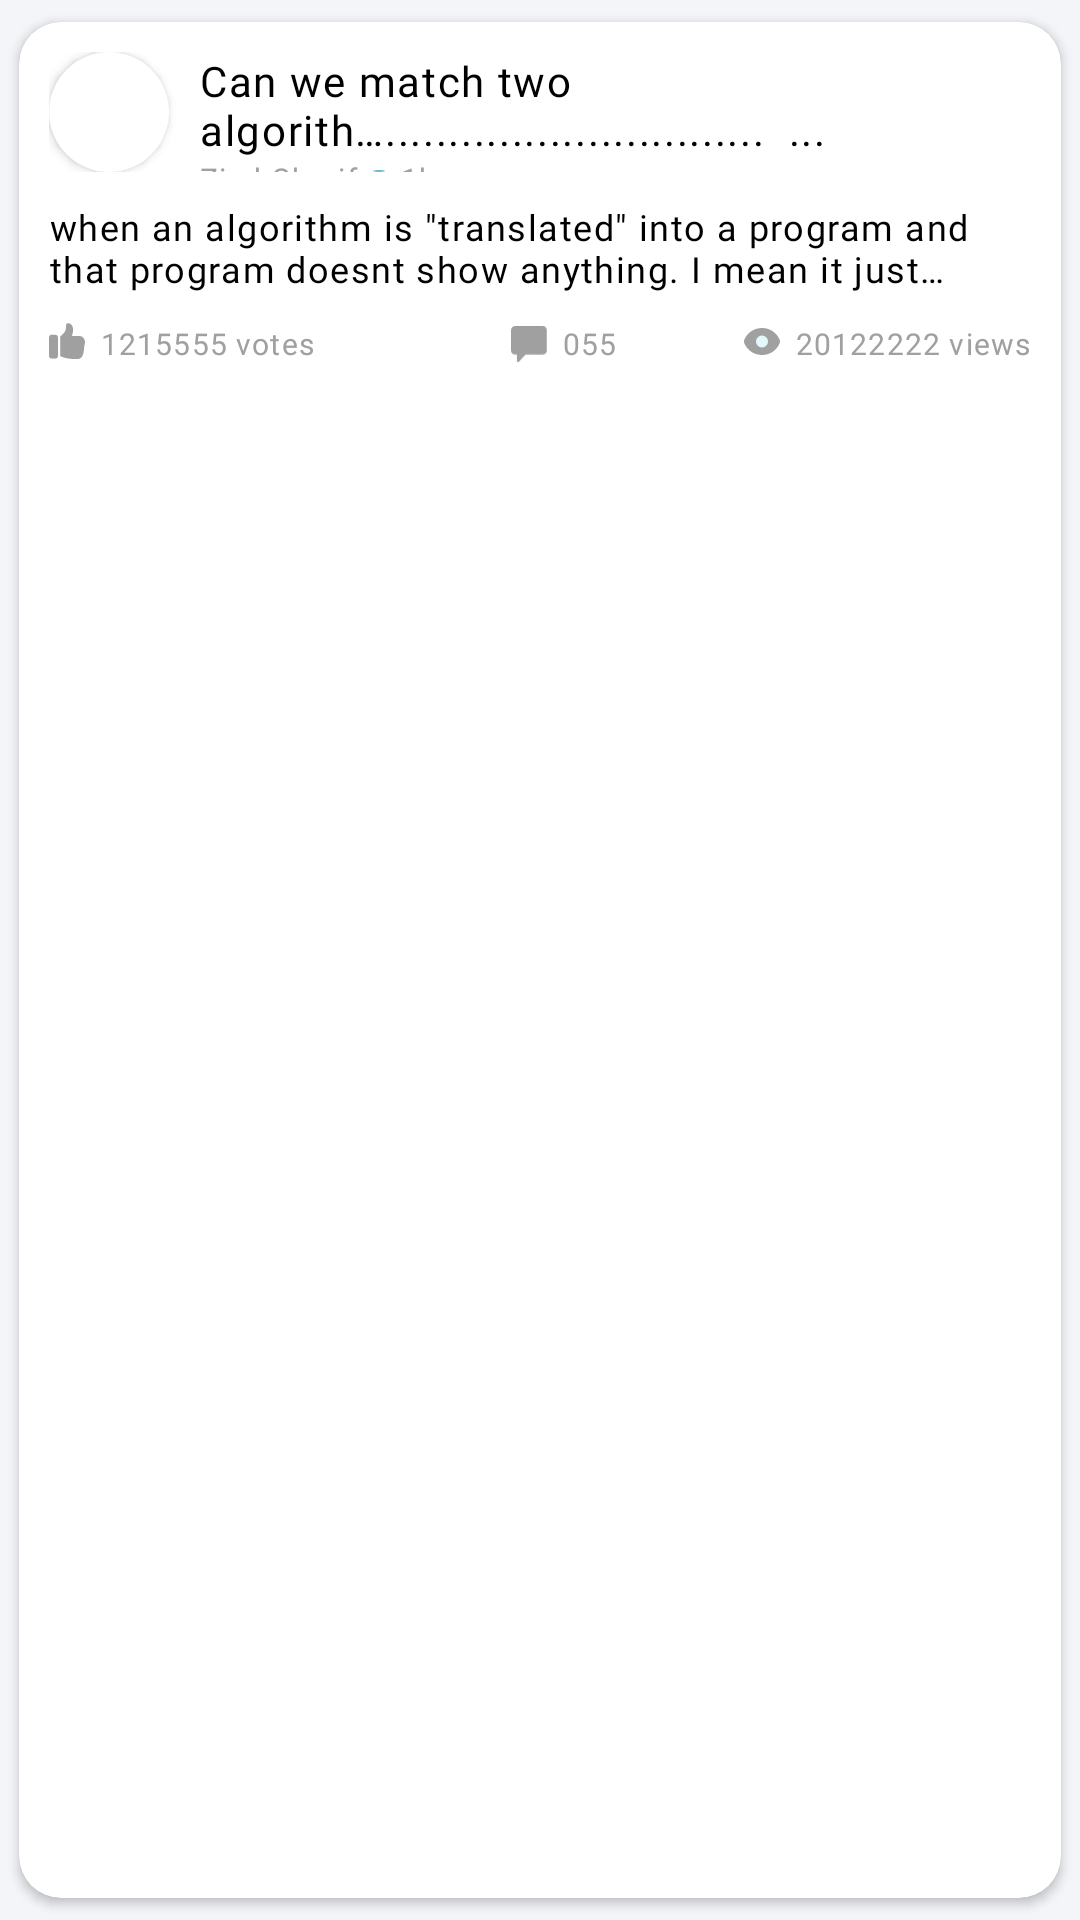

Icon bounding boxes for this 1080px x 1920px phone screenshot, format (x1, y1, x2, y2):
answers: (511, 326, 547, 362)
